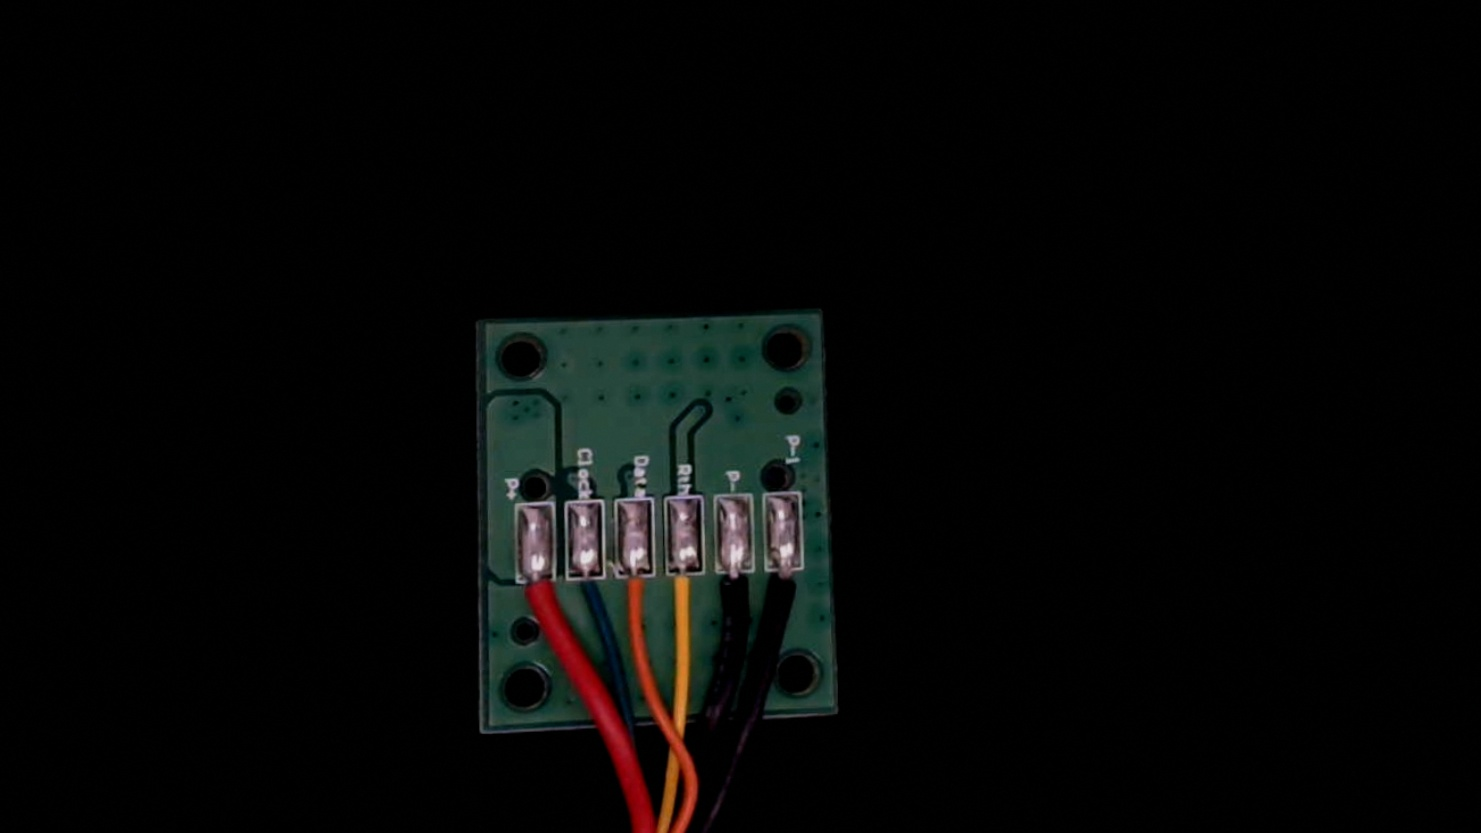Black: (712, 551, 758, 645)
Black1: (765, 550, 809, 637)
Green: (565, 554, 605, 632)
Orange: (614, 553, 656, 646)
Red: (512, 559, 556, 649)
Yellow: (660, 554, 705, 648)
